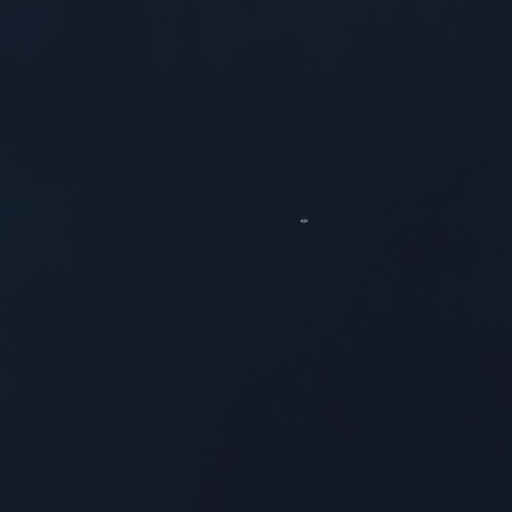ship: (297, 215, 311, 226)
